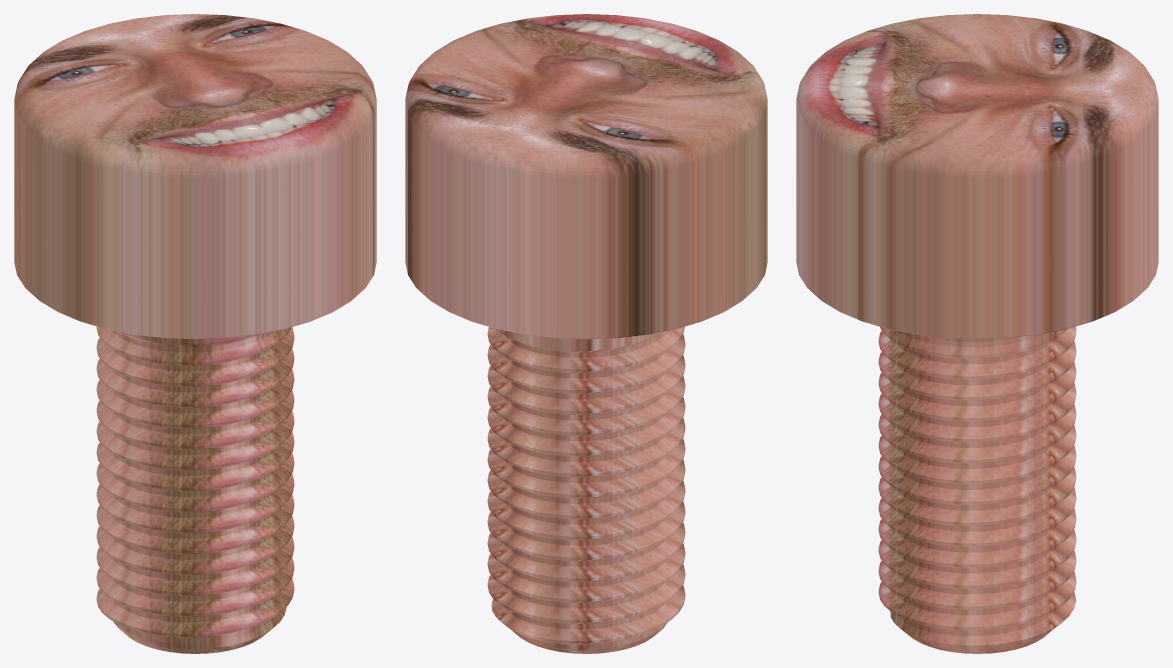
Rendered from kroeger-cap-bolt.glb.
The picture shows the model from 3 angles, left to right: view 1: azimuth 30°, elevation 25°; view 2: azimuth 150°, elevation 25°; view 3: azimuth 270°, elevation 25°; orthographic projection.
Visible parts, largest first — view 1: Bolt.011; view 2: Bolt.011; view 3: Bolt.011.
Part boxes in pixels (box(x1,y1,x2,y2)): Bolt.011: box(14, 14, 376, 653); Bolt.011: box(405, 14, 767, 653); Bolt.011: box(796, 14, 1158, 653).
Size of the model in its own units: 0.011 by 0.018 by 0.011.
Materials: 1 (1 with a texture image).
